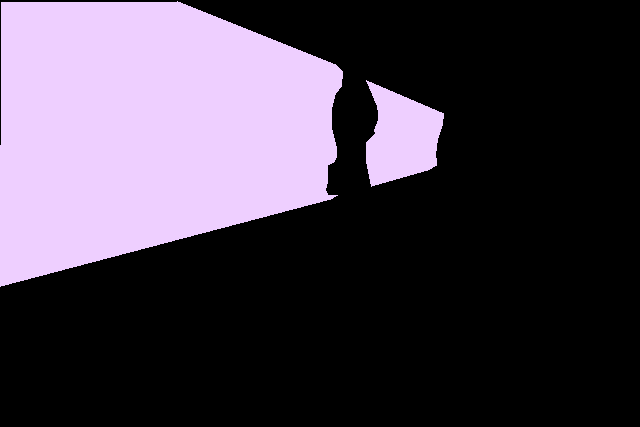Train: (0, 1, 443, 286)
